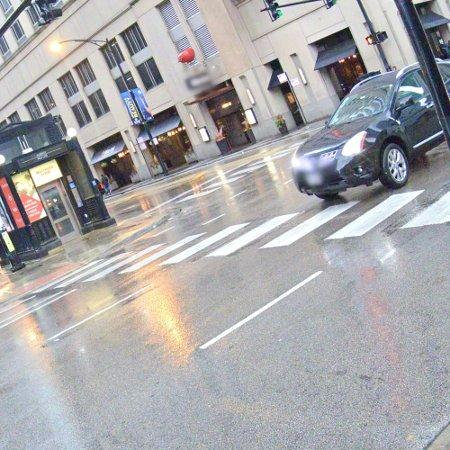crosswalks: (31, 192, 450, 292)
